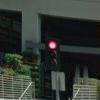Traffic light: (44, 35, 62, 74)
